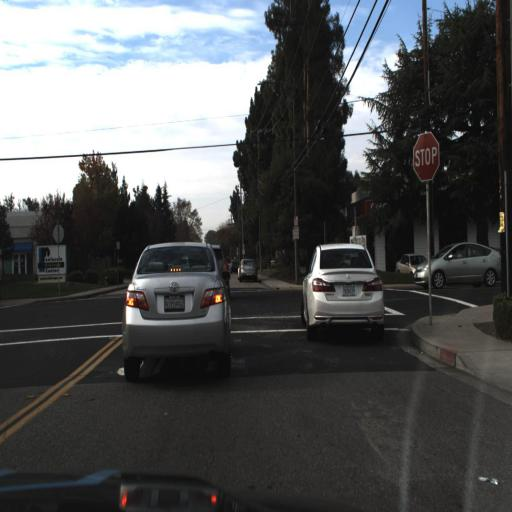car: (122, 241, 229, 379), (301, 242, 386, 332), (412, 242, 506, 290), (236, 252, 258, 283), (394, 249, 422, 272)
